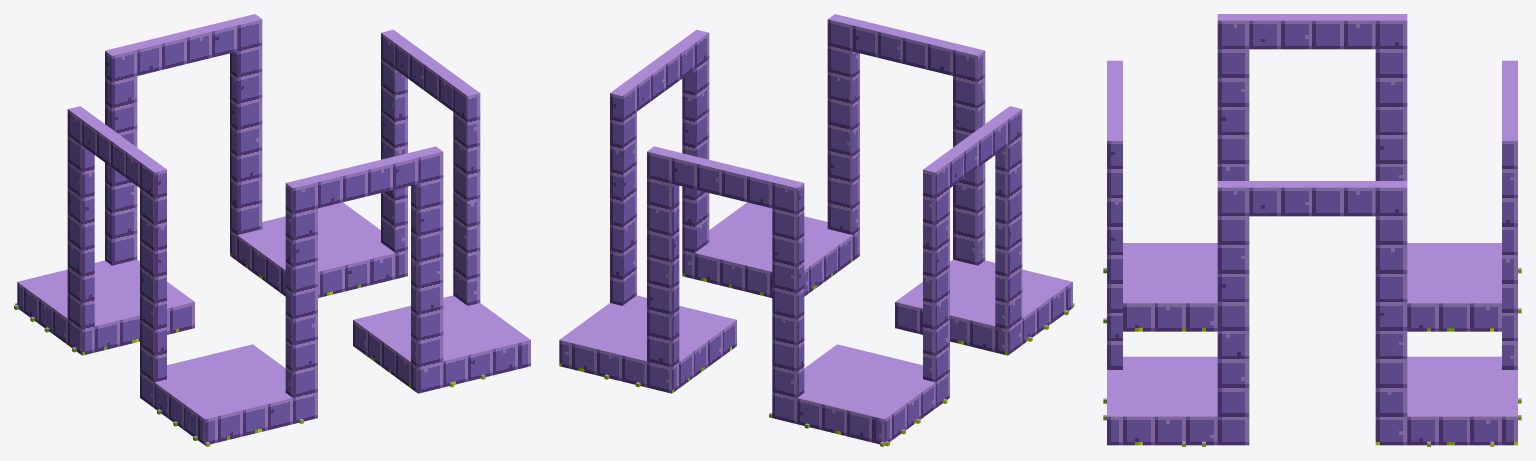
The model's file is hubdoorsao.fezao.glb.
3 views of the same model, side by side, from view 1: azimuth 30°, elevation 25°; view 2: azimuth 150°, elevation 25°; view 3: azimuth 270°, elevation 25° (orthographic). The views are drawn at different scales.
Visible parts, largest first — view 1: HUBDOORSAO; view 2: HUBDOORSAO; view 3: HUBDOORSAO.
Part boxes in pixels (x1,y1,x2,y2): HUBDOORSAO: (14,14,530,446); HUBDOORSAO: (559,14,1074,446); HUBDOORSAO: (1103,14,1521,446).
Size of the model in its own units: 6.62 by 4.5 by 6.62.
Materials: 1 (1 with a texture image).
